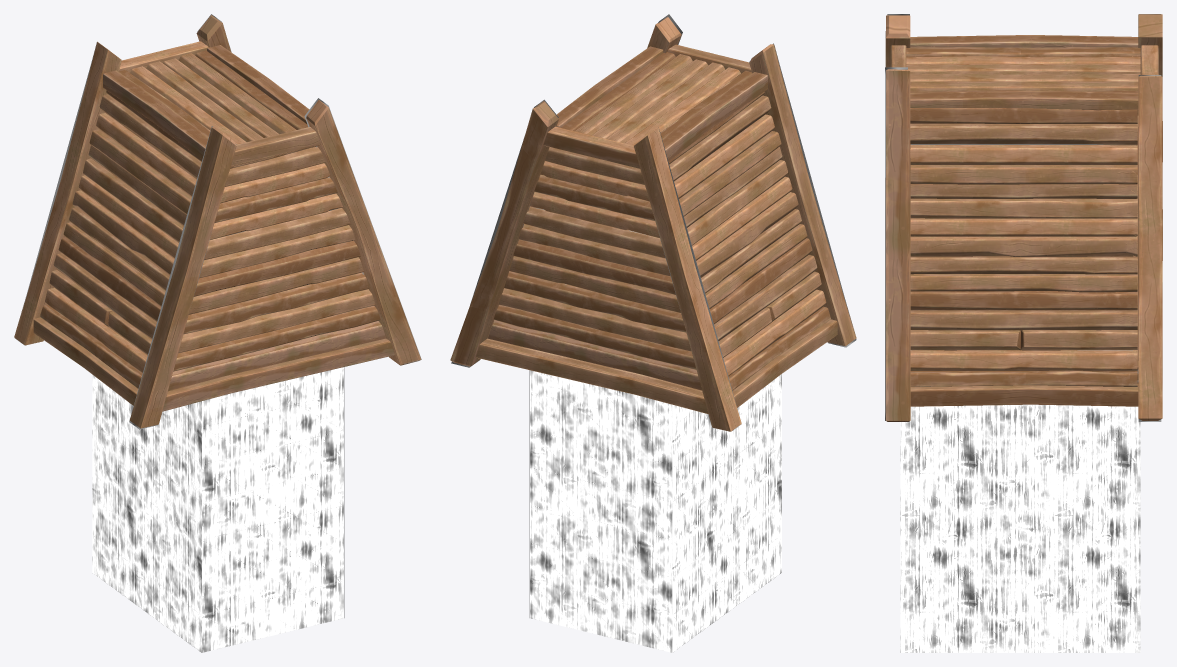
Rendered from SM_BuildingBase_07.gltf.
The picture shows the model from 3 angles, left to right: view 1: azimuth 30°, elevation 25°; view 2: azimuth 150°, elevation 25°; view 3: azimuth 270°, elevation 25°; orthographic projection. The views are drawn at different scales.
Parts seen in each view (by area): view 1: SM_BuildingBase_07_LOD0, SM_BuildingBase_07_ConvexHulls; view 2: SM_BuildingBase_07_LOD0, SM_BuildingBase_07_ConvexHulls; view 3: SM_BuildingBase_07_LOD0, SM_BuildingBase_07_ConvexHulls.
Part boxes in pixels (x1,y1,x2,y2): SM_BuildingBase_07_LOD0: (14,15,421,652); SM_BuildingBase_07_ConvexHulls: (15,14,421,617); SM_BuildingBase_07_LOD0: (450,17,856,652); SM_BuildingBase_07_ConvexHulls: (451,14,856,617); SM_BuildingBase_07_LOD0: (885,14,1162,652); SM_BuildingBase_07_ConvexHulls: (885,14,1161,421).
Size of what is drawn, in the model's own units: 5.93 by 10.54 by 4.62.
Materials: 4 (3 with a texture image).
